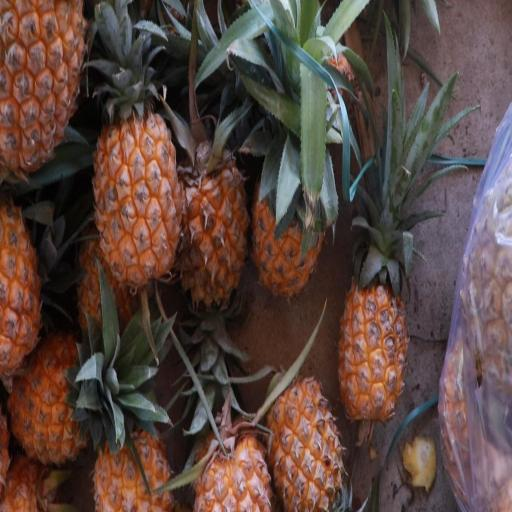Pineapple - v8 v1: (91, 80, 186, 302), (7, 322, 134, 470), (0, 0, 96, 189), (332, 236, 411, 426), (176, 122, 252, 319), (248, 130, 328, 306), (264, 367, 347, 512), (0, 202, 53, 392), (192, 395, 276, 512)
